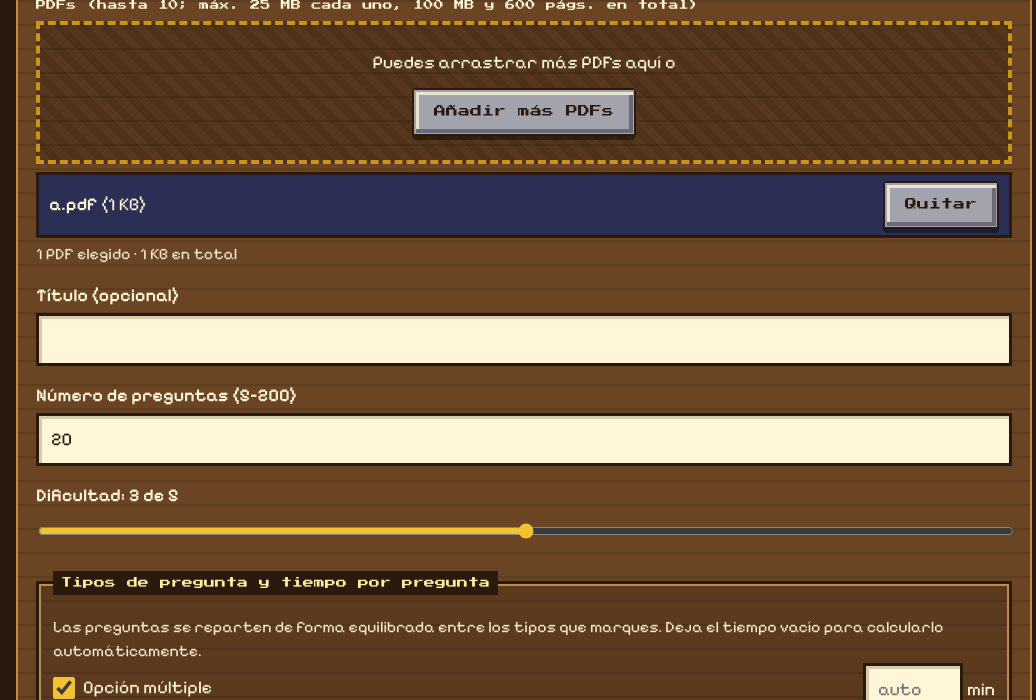
Test: CrearCurso › quitar todos vuelve a pedir un PDF
The image size is (1036, 700).
Earlier steps of the test are not shown.
Click the button with aria-label "Quitar a.pdf".
click(941, 205)  # box [883,181,999,229]
(page scrolled)
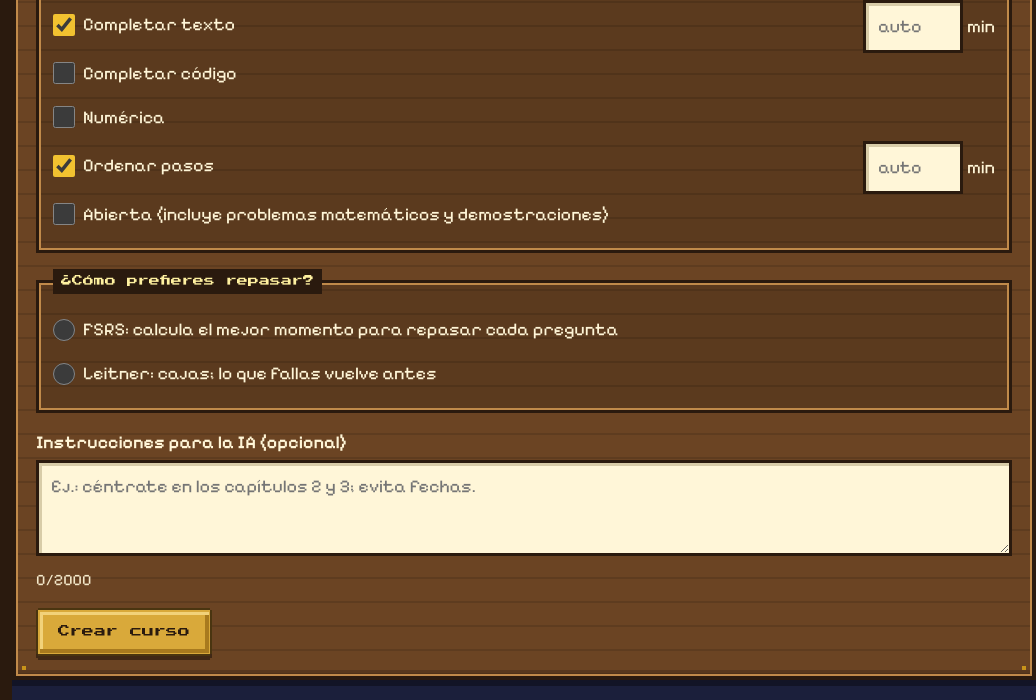
Click the radio button labelled "Leitner: cajas; lo que fallas vuelve antes".
click(64, 374)  # box [53,363,75,385]
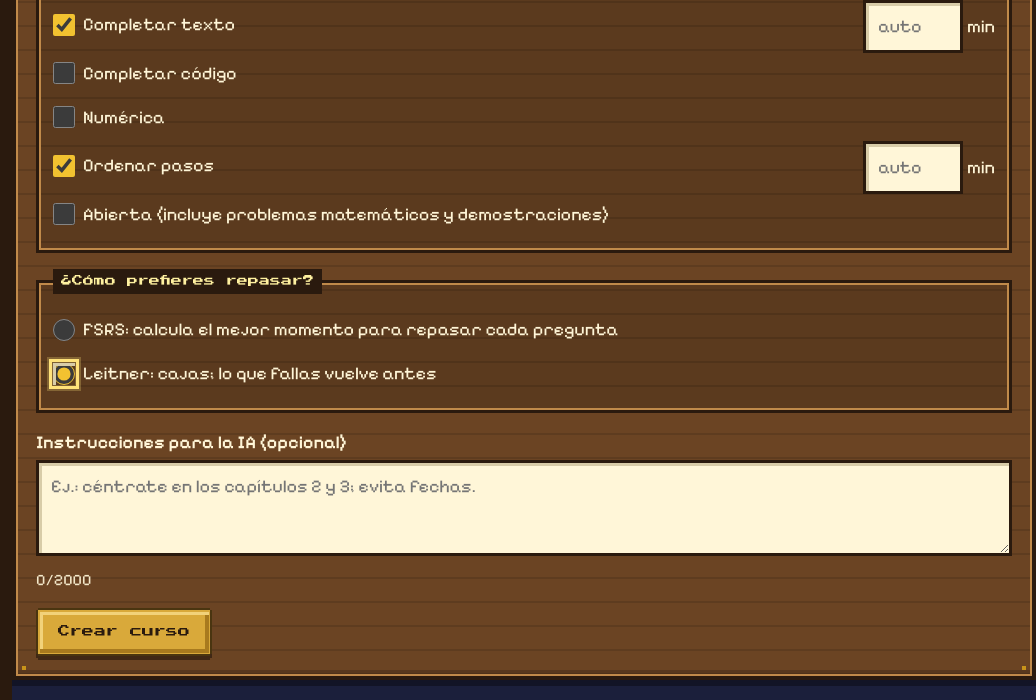
Click the button "Crear curso".
click(124, 632)  # box [36,608,212,656]
(page scrolled)
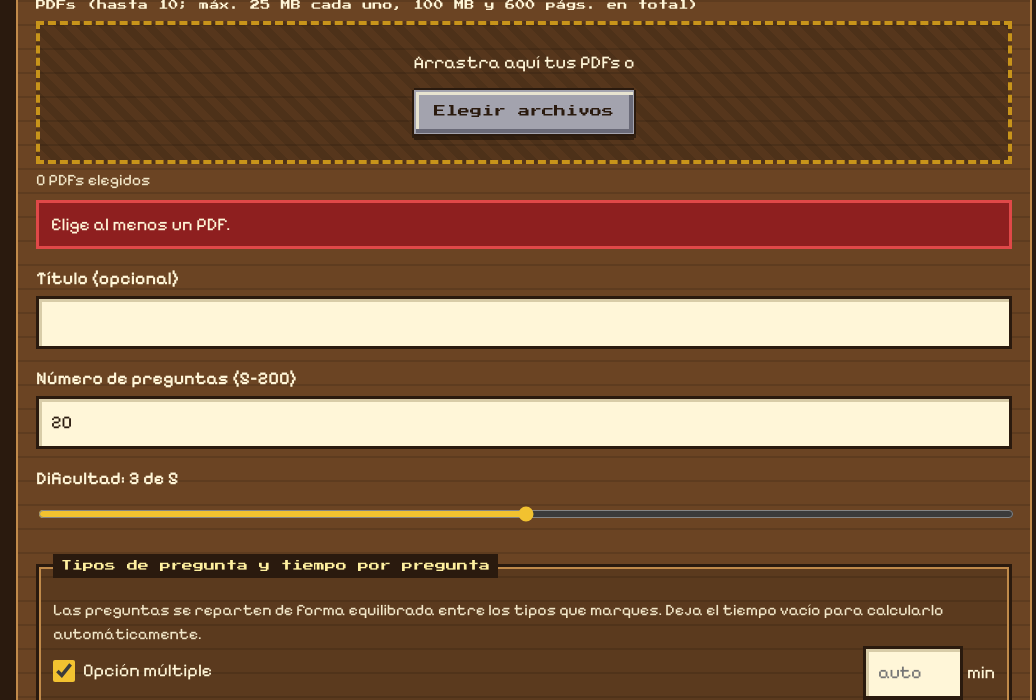
expect the text "Elige al menos un PDF." is shown: met, box [36,200,1012,249]
